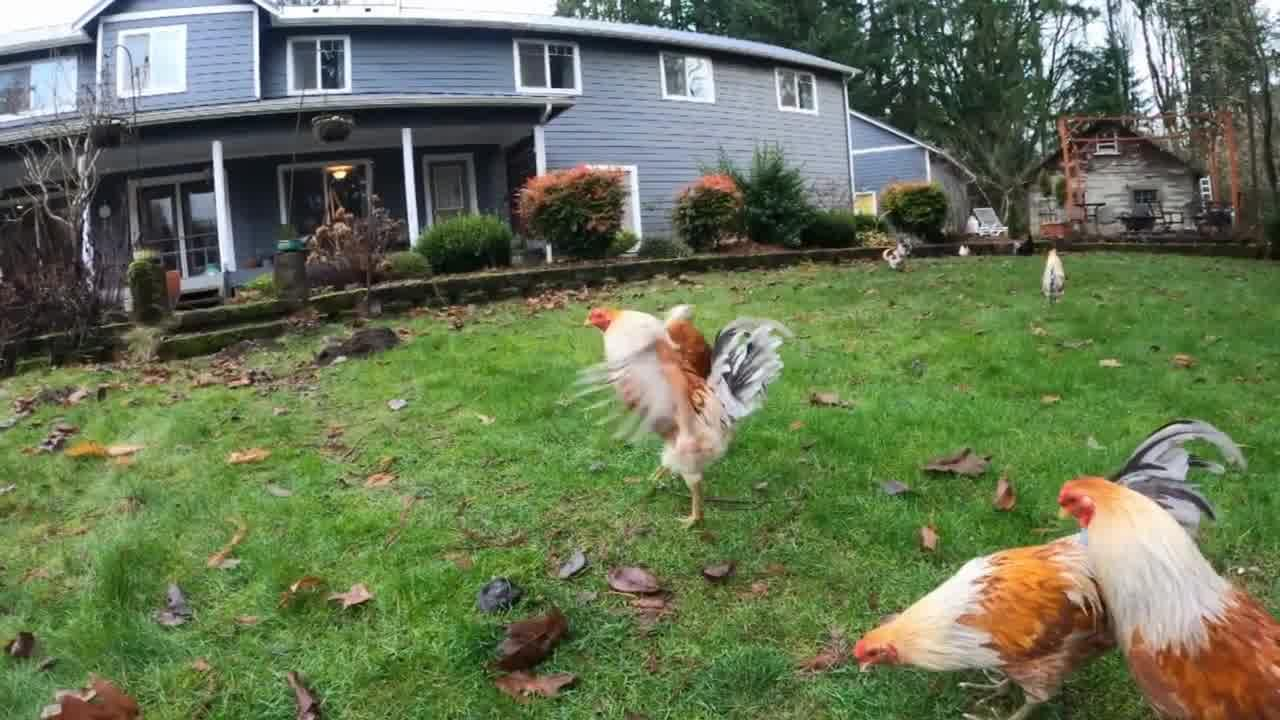Normal: (850, 418, 1238, 720), (1038, 456, 1280, 720), (568, 278, 796, 528)
